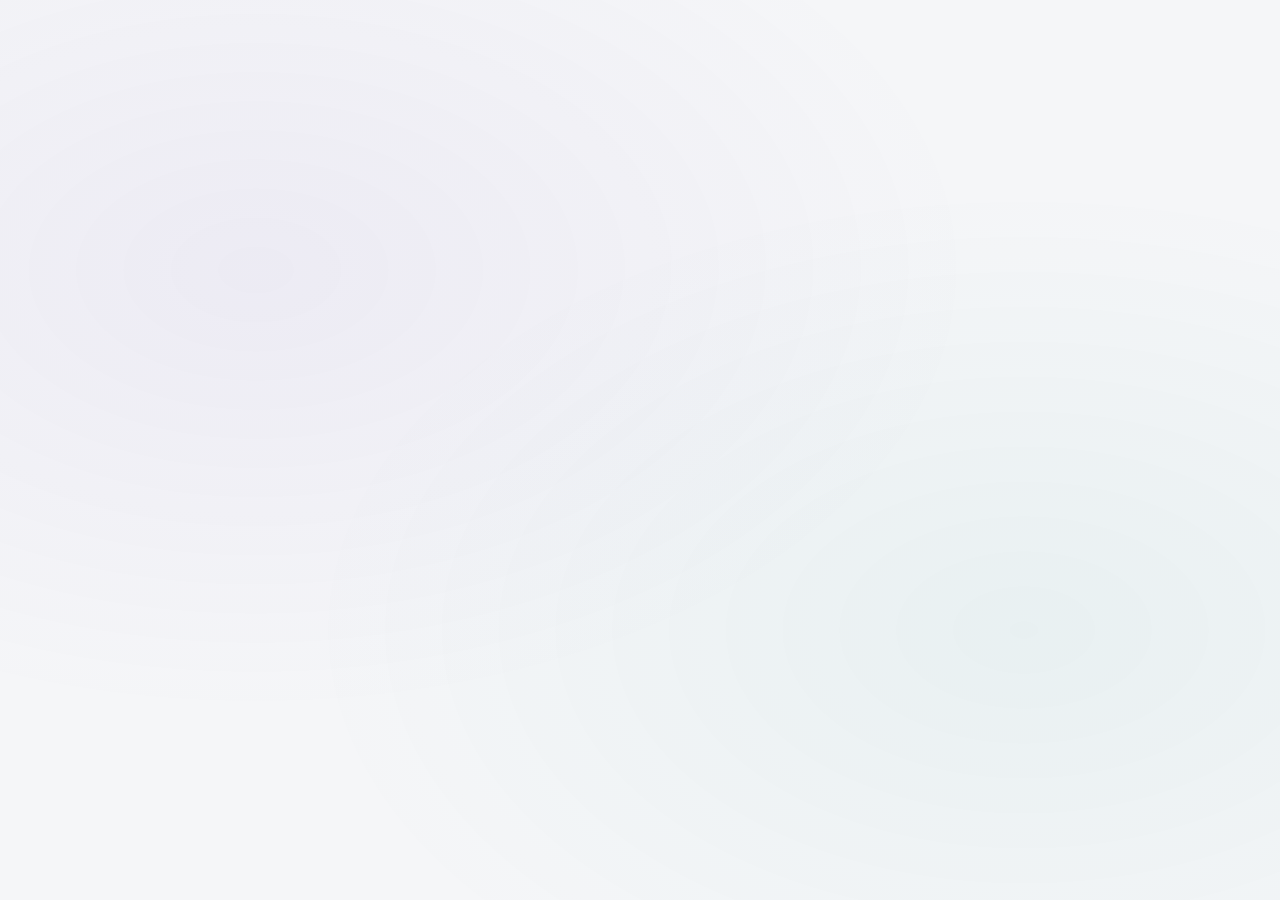
Test: CommandPalette › navigates and closes when a command is chosen
Press k
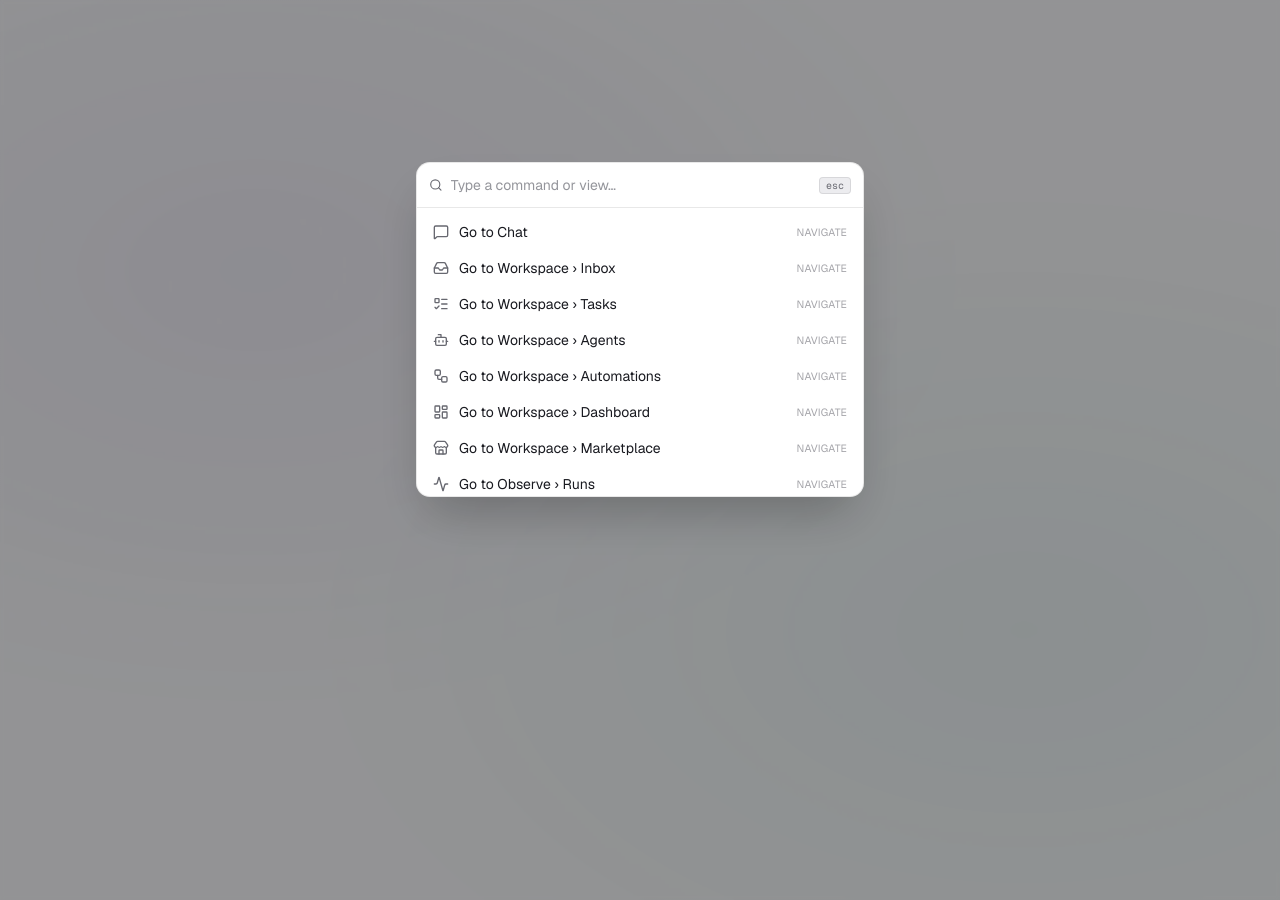
Click the button with test id "command-item-runs" at (527, 484), box [423,466,857,502]
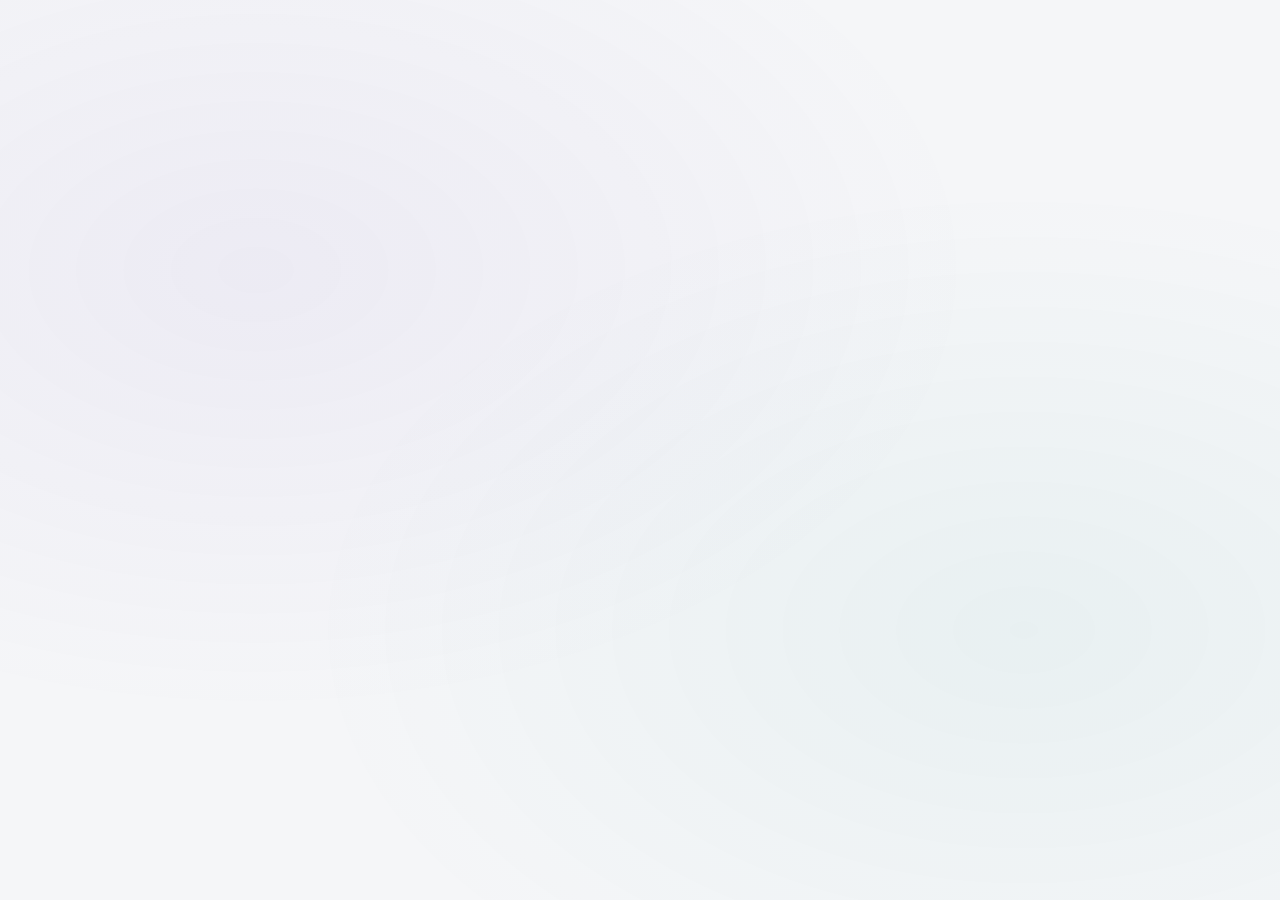
Result: the element with test id "command-palette" is gone
